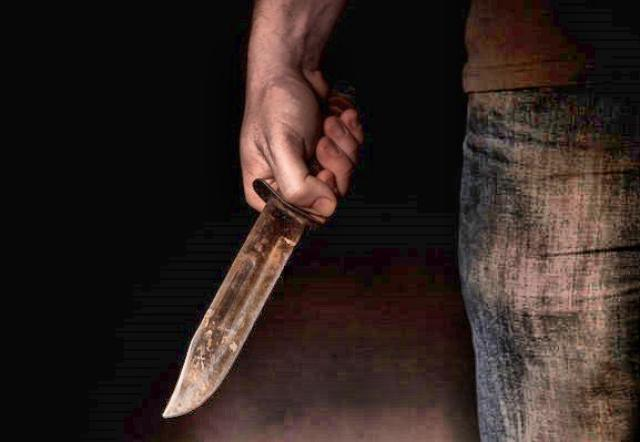knife: (152, 100, 362, 430)
